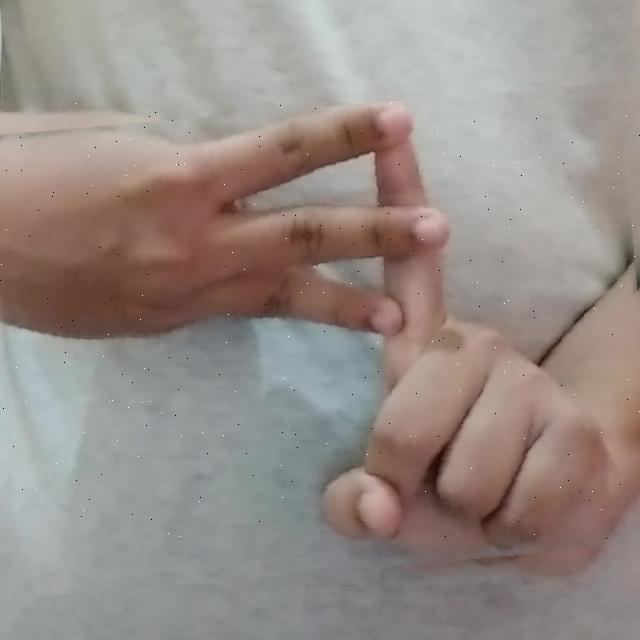B: (0, 101, 640, 549)
